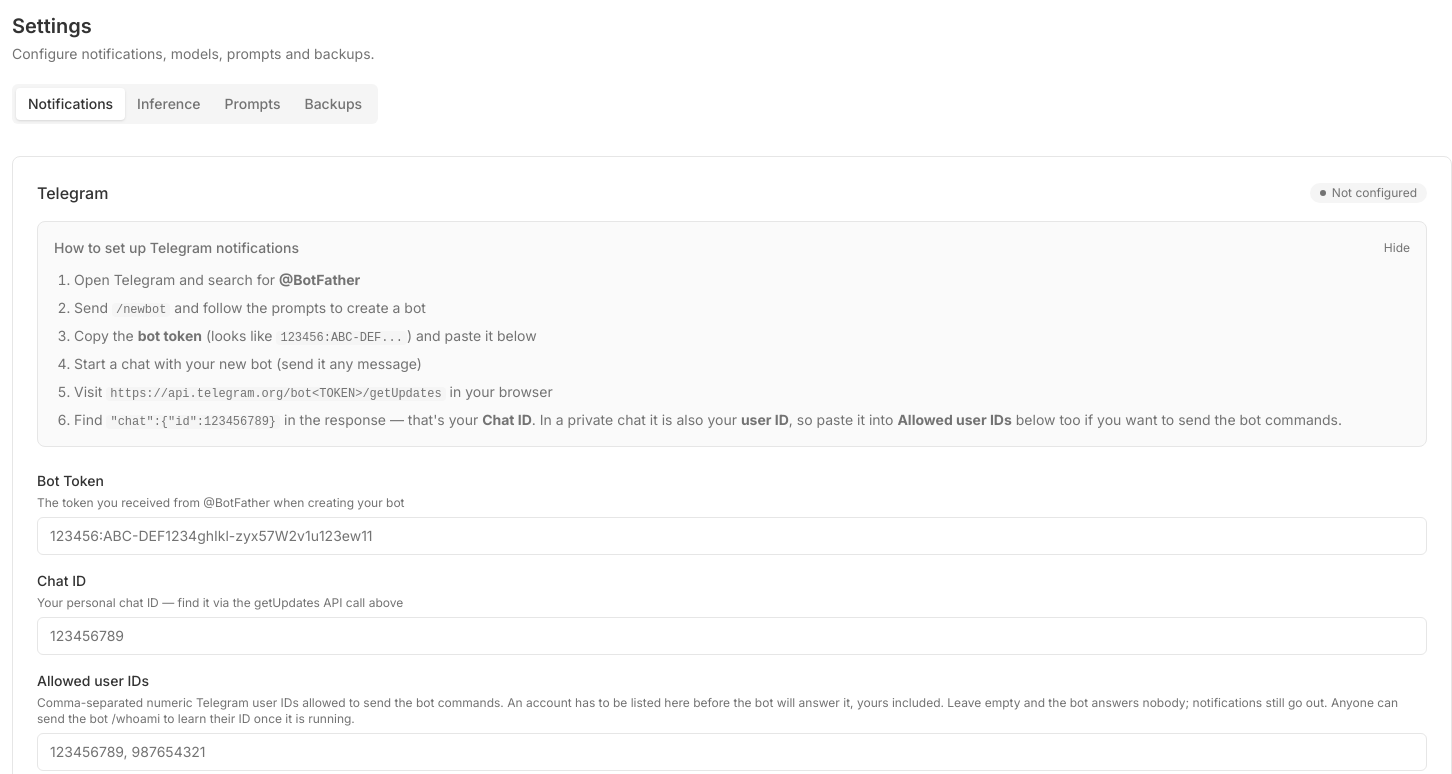
NotificationSettings › shows pipeline step cards in Remote Inference tab
# Wait for tabs to be available
Click the tab "Inference" at {"x": 169, "y": 104}, box 125,88 -> 213,120
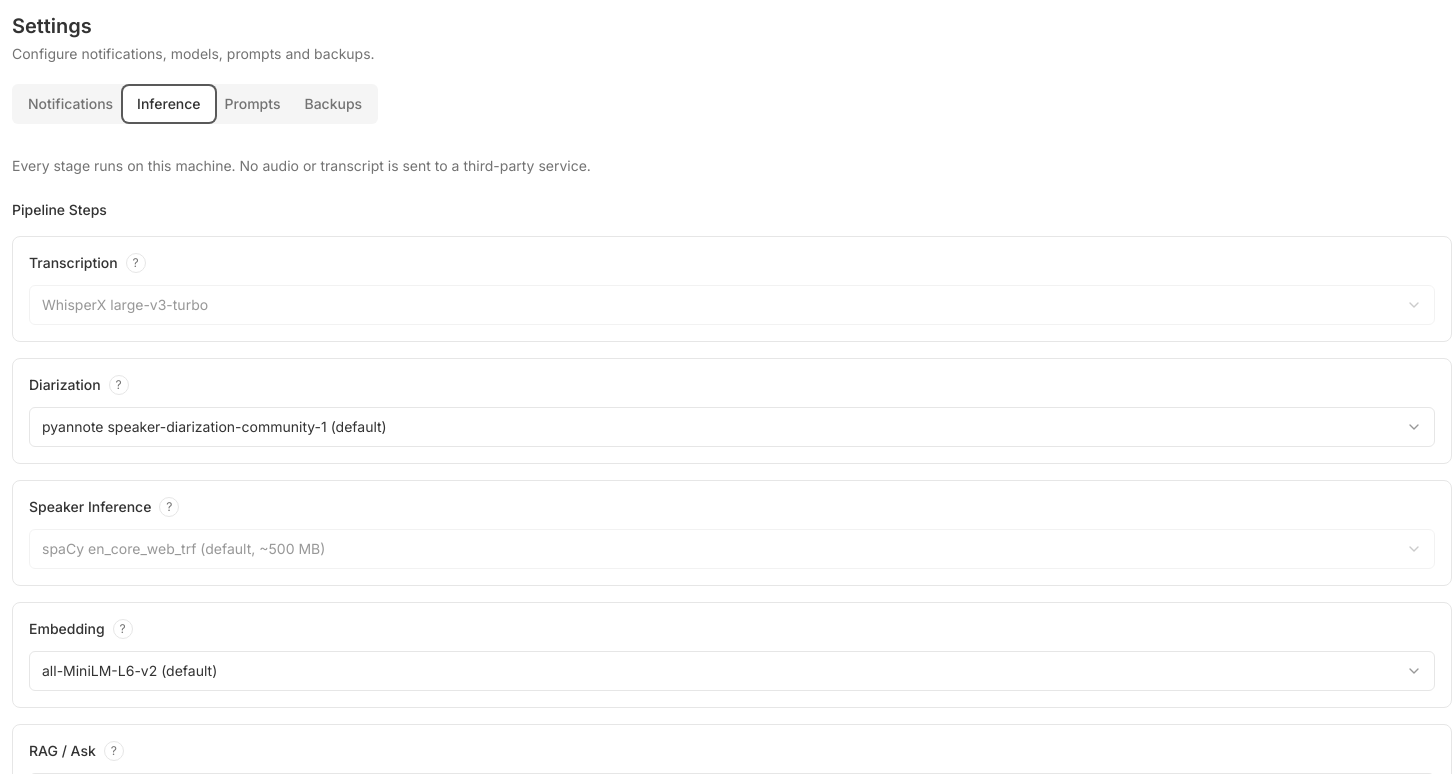
Expected: the heading "Transcription" is shown, 29,253 -> 118,273
Expected: the heading "Diarization" is shown, 29,375 -> 101,395
Expected: the heading "Speaker Inference" is shown, 29,497 -> 151,517
